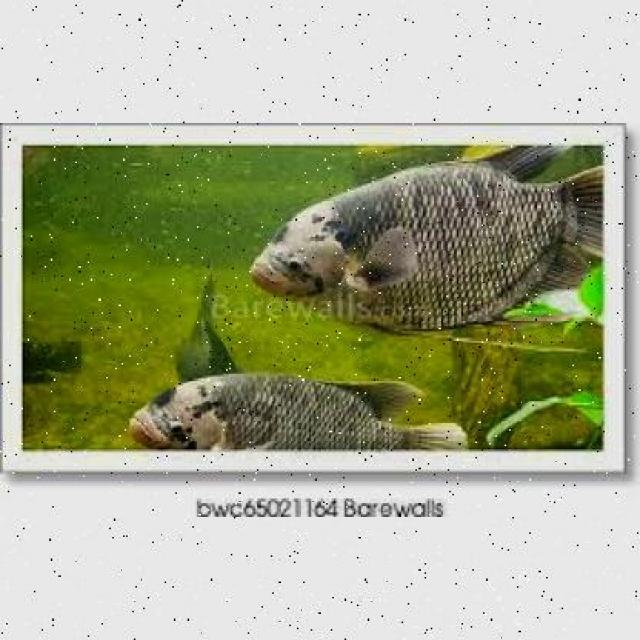gurame: (248, 147, 601, 336), (123, 371, 464, 447)
